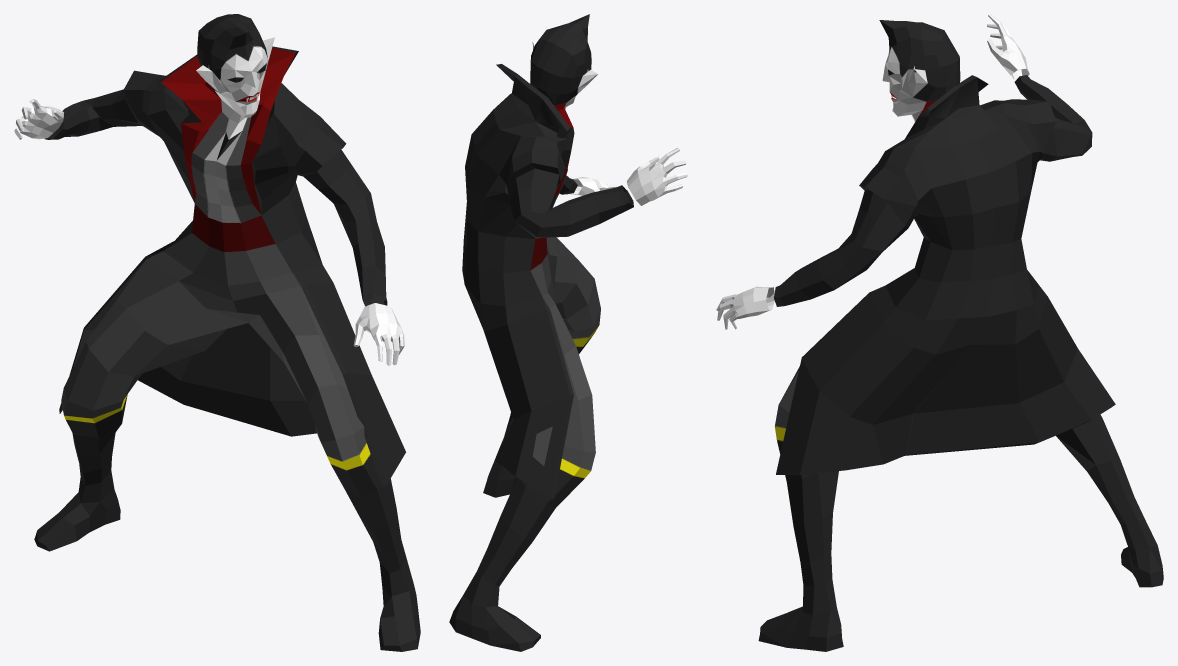
The model's file is VampireAttack(3).obj.
3 views of the same model, side by side, from view 1: azimuth 30°, elevation 25°; view 2: azimuth 150°, elevation 25°; view 3: azimuth 270°, elevation 25° (orthographic). The views are drawn at different scales.
Visible parts, largest first — view 1: Plane002; view 2: Plane002; view 3: Plane002.
Part boxes in pixels (x1=…): Plane002: x1=14, y1=14, x2=420, y2=651; Plane002: x1=449, y1=14, x2=687, y2=651; Plane002: x1=716, y1=14, x2=1163, y2=651.
Size of the model in its own units: 163 by 298 by 212.
